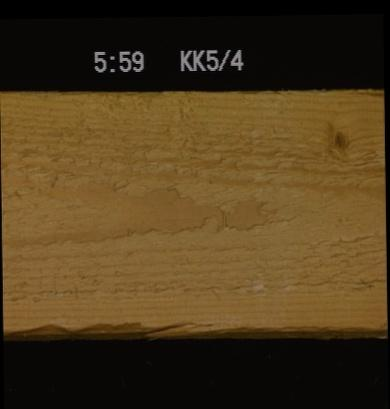small_knot: (329, 125, 351, 153)
split: (340, 86, 383, 98)
wave: (2, 312, 386, 336)
